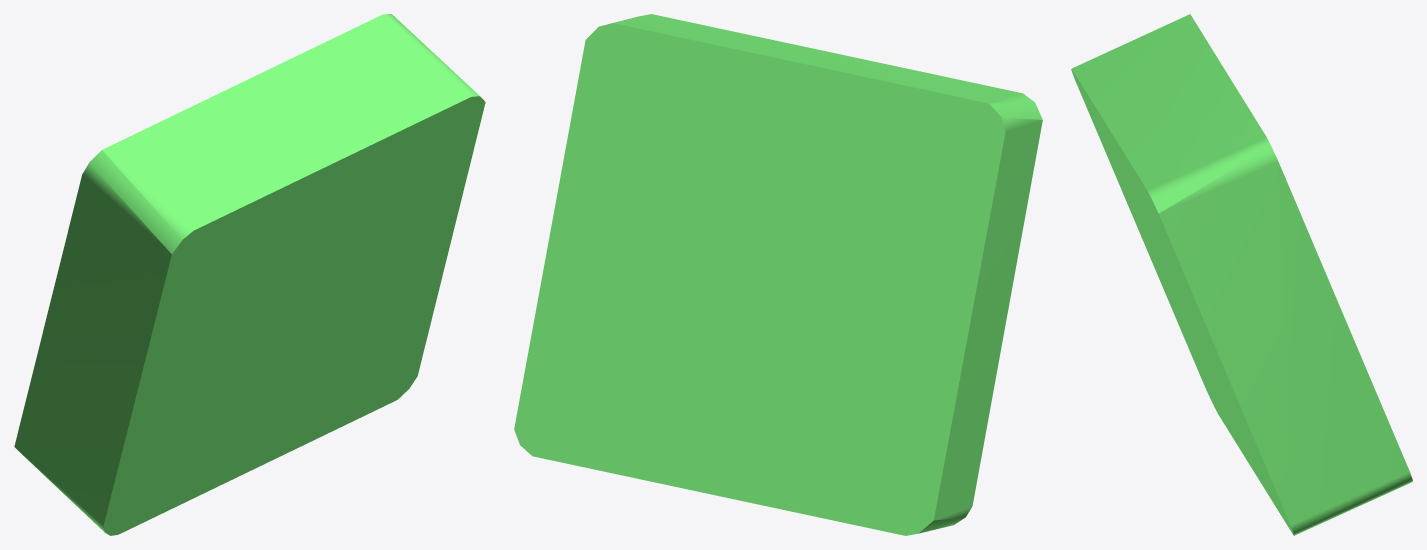
3 renders of one model, left to right at view 1: azimuth 30°, elevation 25°; view 2: azimuth 150°, elevation 25°; view 3: azimuth 270°, elevation 25°, orthographic. The views are drawn at different scales.
Visible parts, largest first — view 1: ee_base_link_03; view 2: ee_base_link_03; view 3: ee_base_link_03.
Part boxes in pixels (left/top/right/bottom): ee_base_link_03: left=14, top=14, right=485, bottom=535; ee_base_link_03: left=514, top=14, right=1042, bottom=535; ee_base_link_03: left=1071, top=14, right=1412, bottom=535.
Size of the model in its own units: 0.0355 by 0.0379 by 0.0284.
